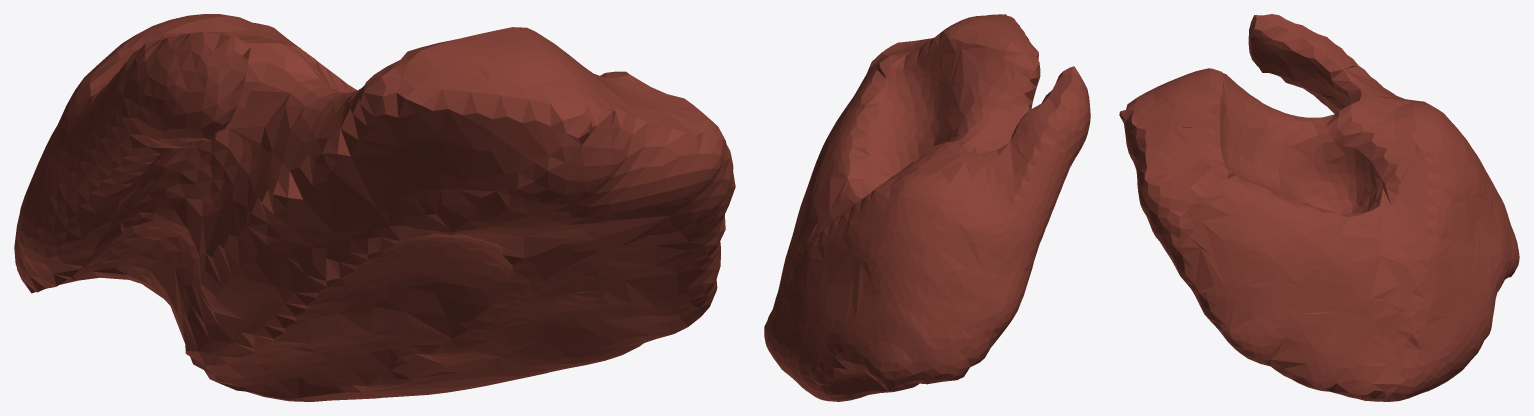
Rendered from Model_509_RH__Pontine_nuclei_(Pn).obj.
3 views of the same model, side by side, from view 1: azimuth 30°, elevation 25°; view 2: azimuth 150°, elevation 25°; view 3: azimuth 270°, elevation 25° (orthographic). The views are drawn at different scales.
Size of the model in its own units: 2.8 by 2.7 by 3.34.
